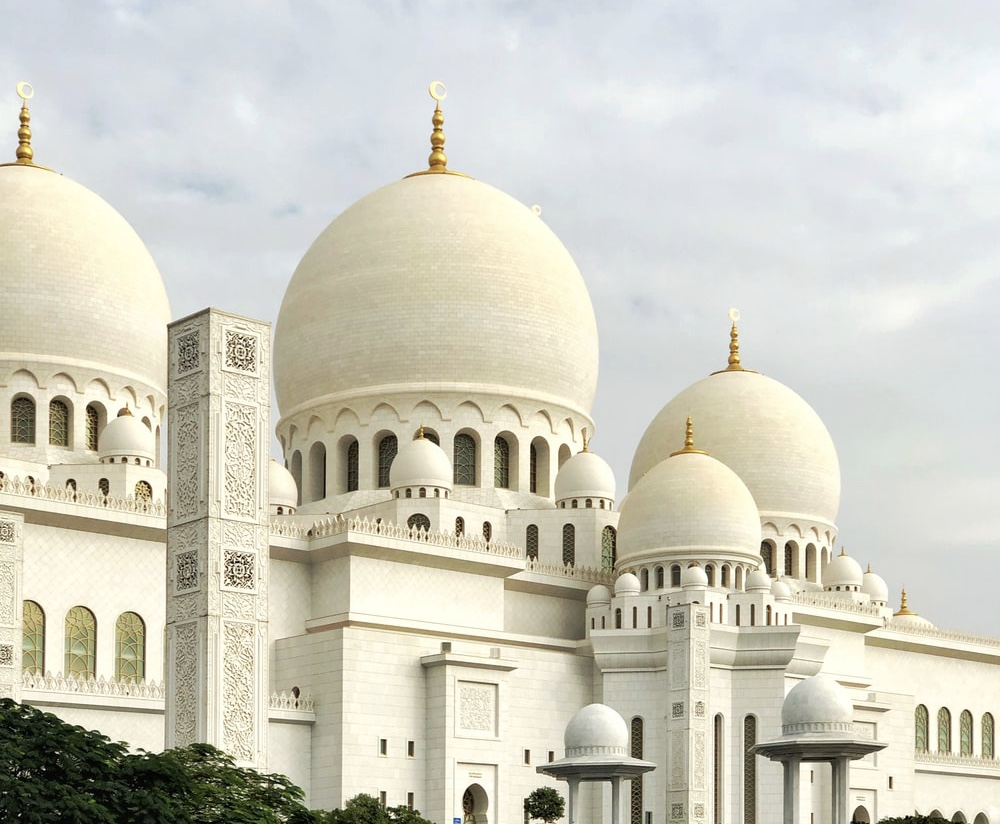Mosque: (7, 71, 958, 818)
